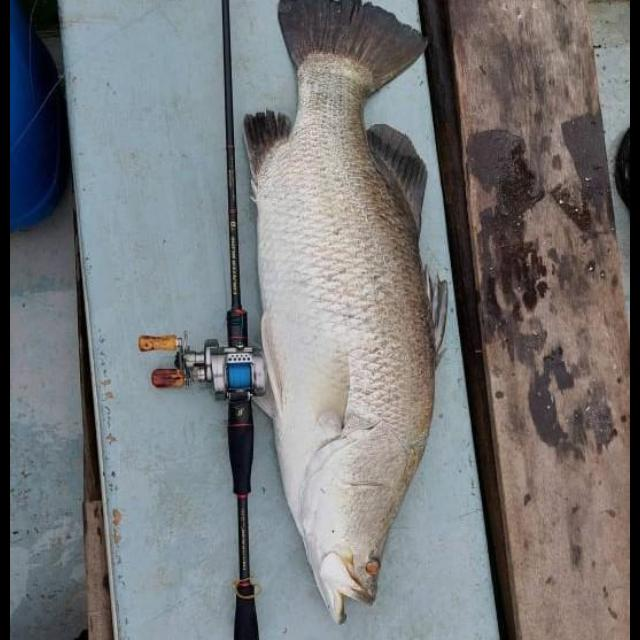Seabass: (242, 0, 452, 624)
